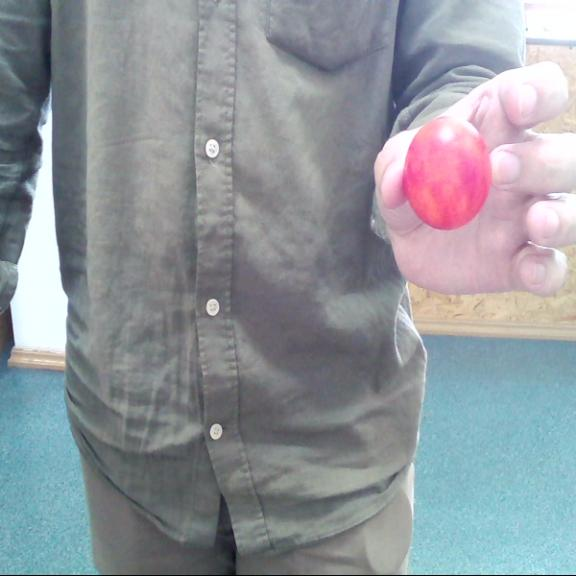ball: (401, 115, 492, 229)
